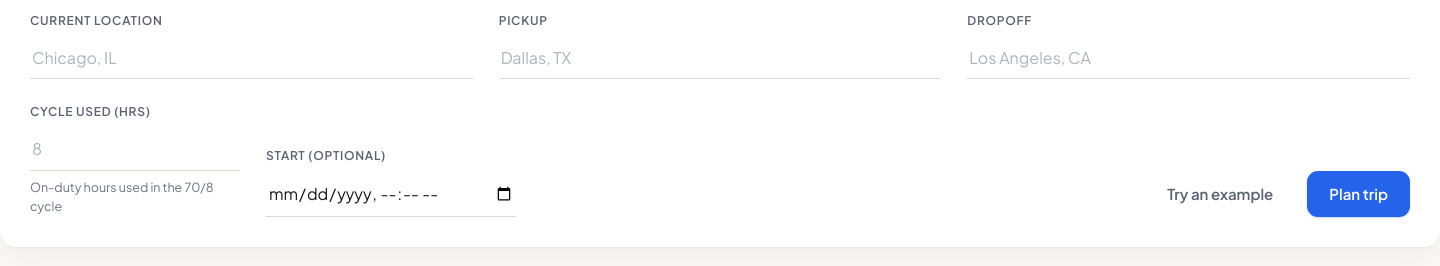
TripForm › rejects a cycle value outside 0-70
In the field labelled "Current location": (251,58) [30,38,473,79], type "A"
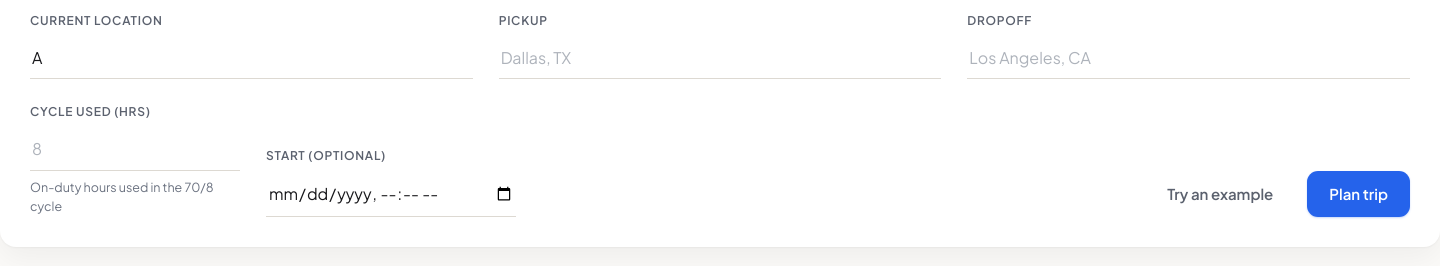
In the field labelled "Pickup": (720,58) [499,38,941,79], type "B"
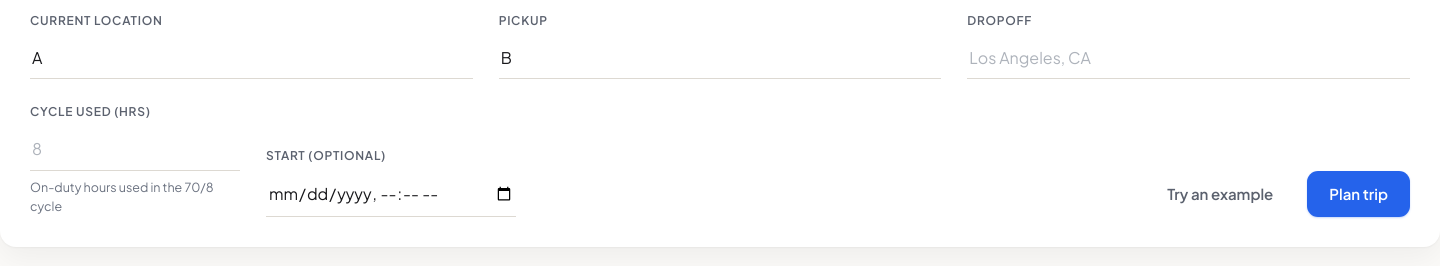
In the field labelled "Dropoff": (1189,58) [967,38,1410,79], type "C"
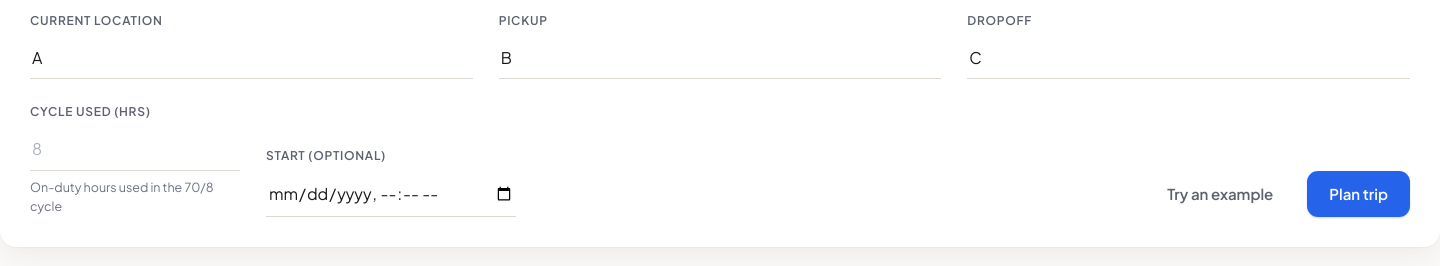
In the number field labelled "Cycle used (hrs) On-duty hours used in the 70/8 cycle": (135,150) [30,129,240,171], type "90"
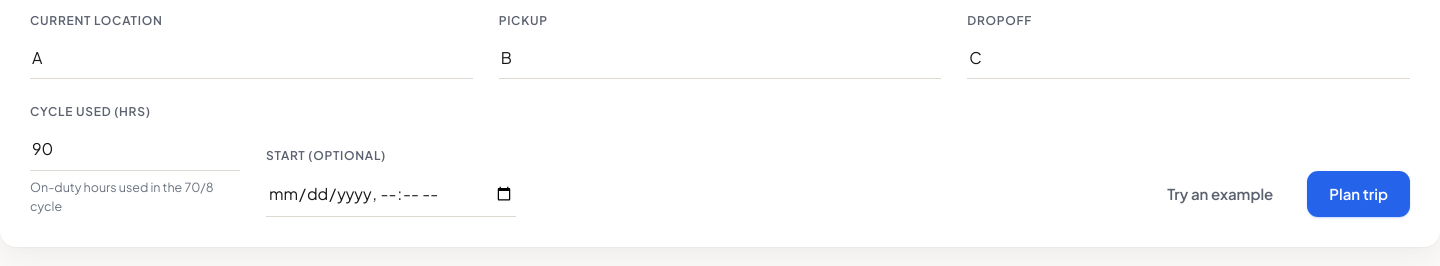
Click the button "Plan trip": (1359,194) [1307,171,1410,217]
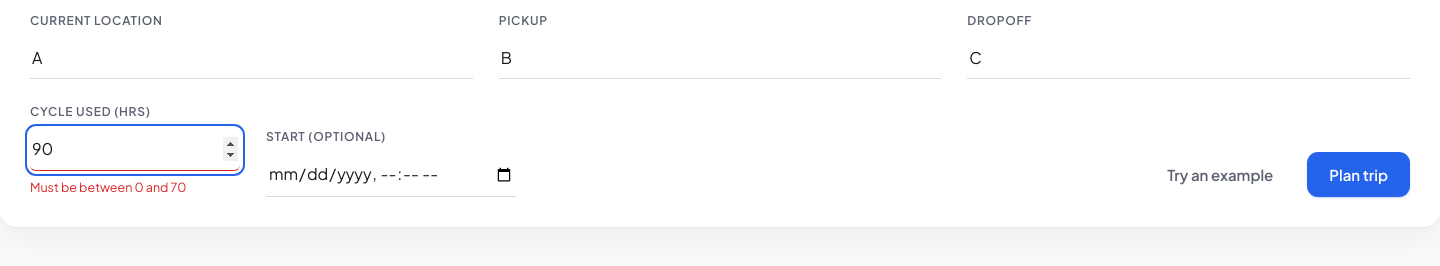
Expected: the text "Must be between 0 and 70" is shown, [30,179,186,195]
